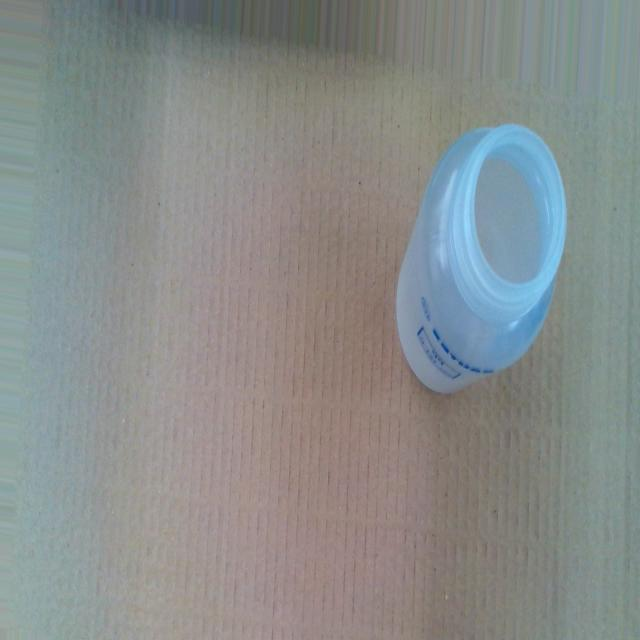bottle: (394, 119, 567, 402)
